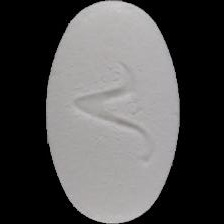35356-973: (0, 0, 224, 224)
